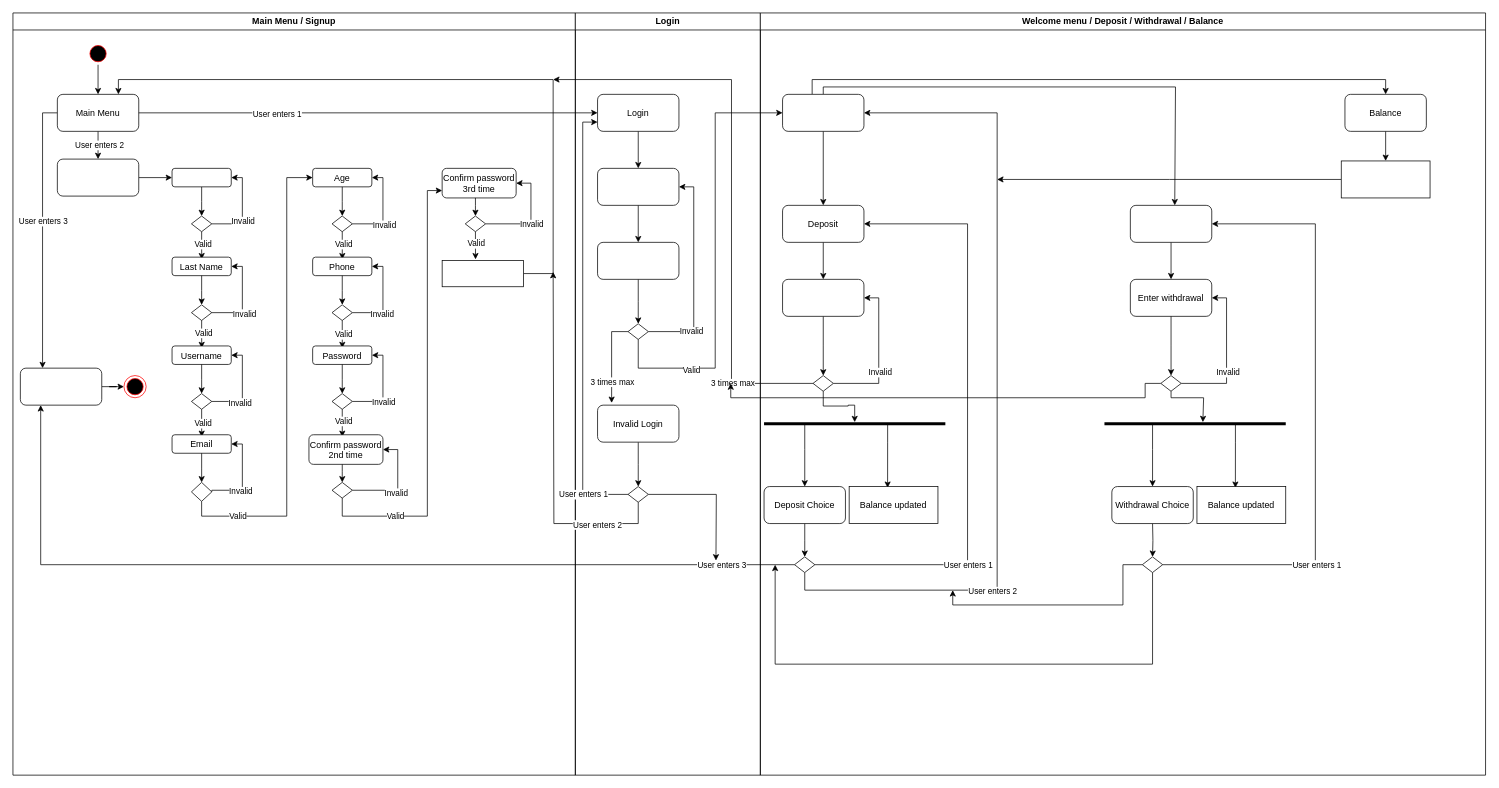
This 1499x788 diagram has some shape labels left out. The shapes that lost their labels are listed below. From the top down, each one's centre as x and y in pixels, then its label:
(823,112): Welcome Menu
(98,177): Signup
(201,177): First Name
(638,186): Ask username
(1385,179): Balance displayed
(1171,223): Withdraw
(482,273): Store Username & Password in List
(638,260): Ask password
(823,297): Enter deposit
(61,386): Quit
